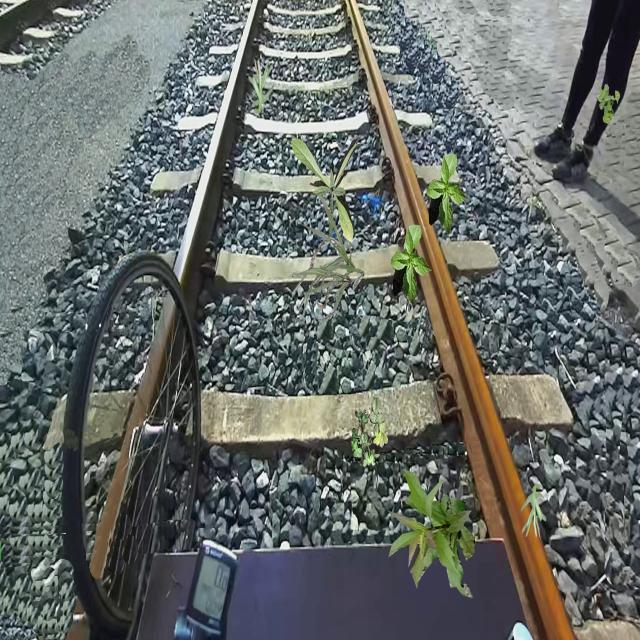Plant: (387, 469, 476, 599), (292, 195, 365, 320), (291, 136, 362, 244), (427, 154, 469, 234), (391, 225, 433, 305), (351, 397, 388, 470), (520, 483, 546, 540), (248, 58, 274, 114), (597, 84, 621, 125)
